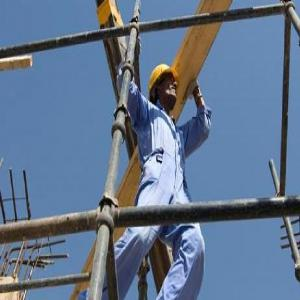yellow: (149, 64, 180, 111)
